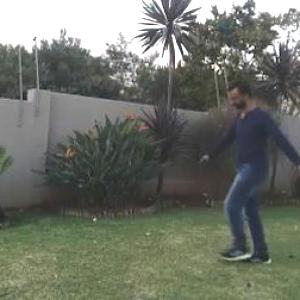land: (188, 70, 299, 280)
